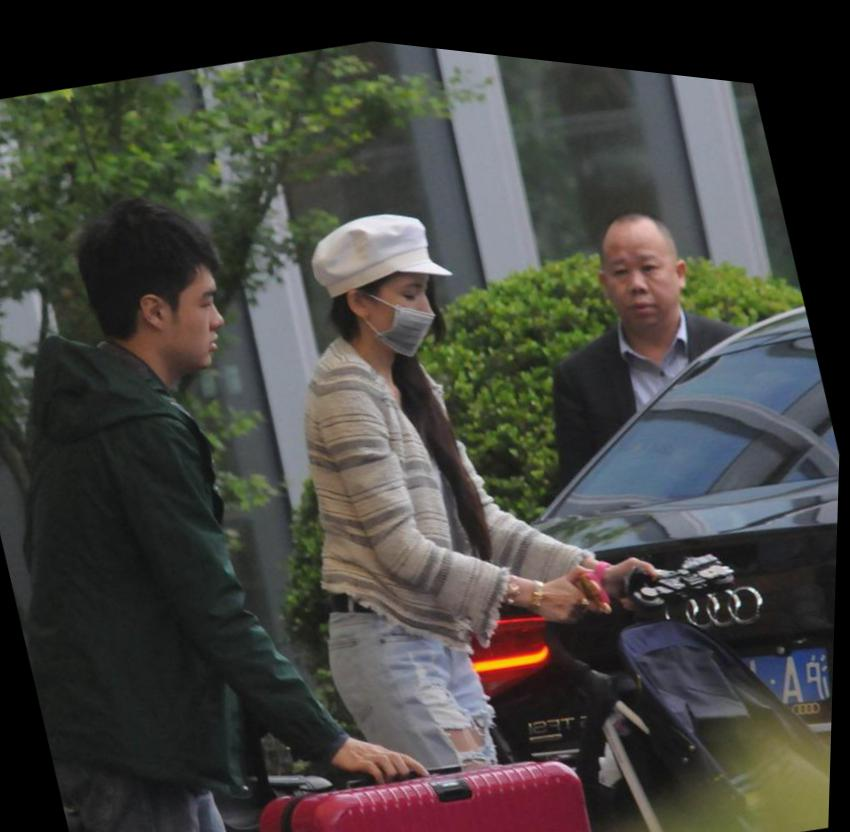NONE: (142, 266, 244, 374), (598, 218, 694, 319)
WRONG: (363, 253, 457, 353)
